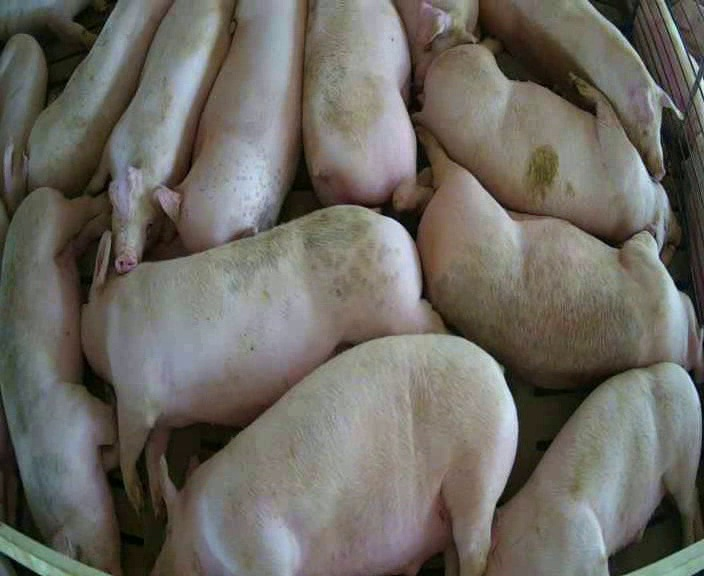pig: (82, 208, 442, 519), (154, 334, 516, 575), (417, 129, 703, 386), (0, 188, 118, 573), (486, 363, 700, 574), (85, 2, 232, 272), (480, 2, 680, 179), (302, 2, 434, 213), (27, 2, 169, 194), (0, 34, 46, 211), (396, 1, 478, 92)
